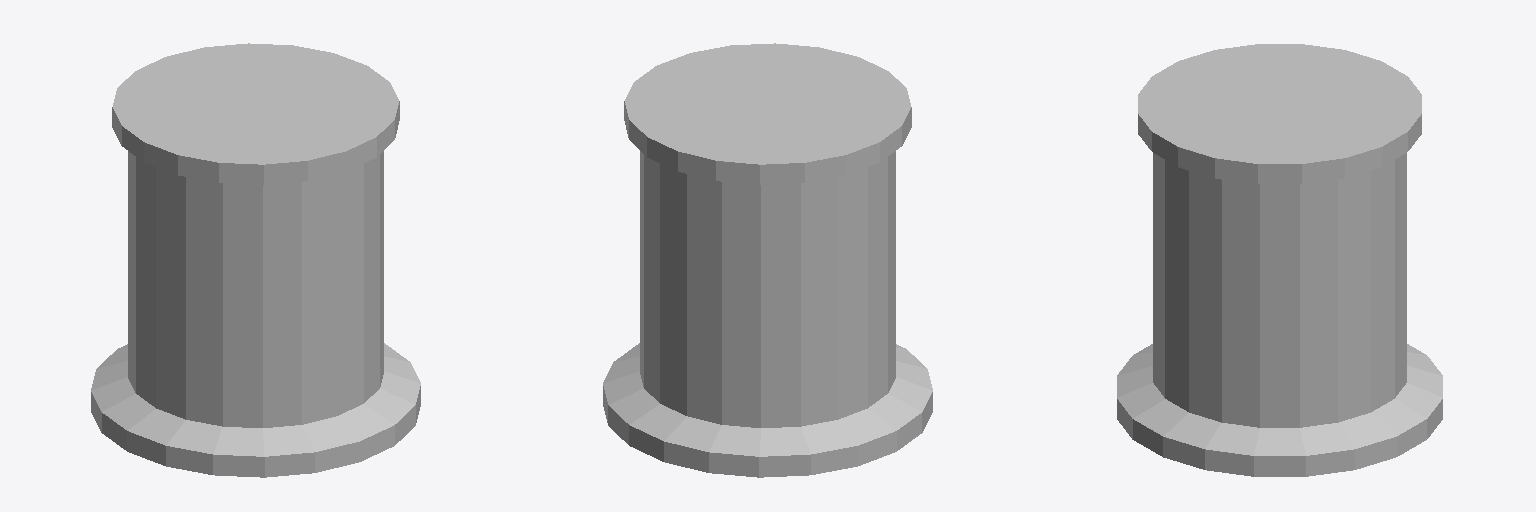
The model's file is deamon_statue_1_002.obj.
3 views of the same model, side by side, from view 1: azimuth 30°, elevation 25°; view 2: azimuth 150°, elevation 25°; view 3: azimuth 270°, elevation 25° (orthographic).
Parts seen in each view (by area): view 1: Circle; view 2: Circle; view 3: Circle.
Boxes of the visible parts, x1,y1,x2,y2 form: Circle: [91, 43, 420, 477]; Circle: [603, 43, 932, 477]; Circle: [1117, 44, 1442, 476].
Size of the model in its own units: 1.02 by 1.05 by 1.02.